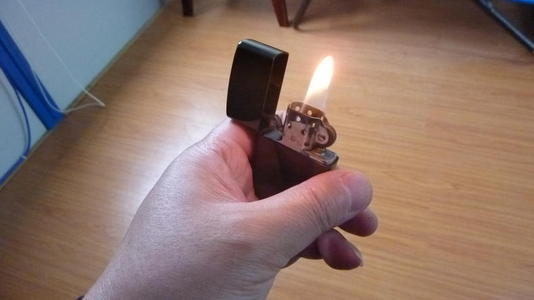fire: (299, 43, 341, 123)
